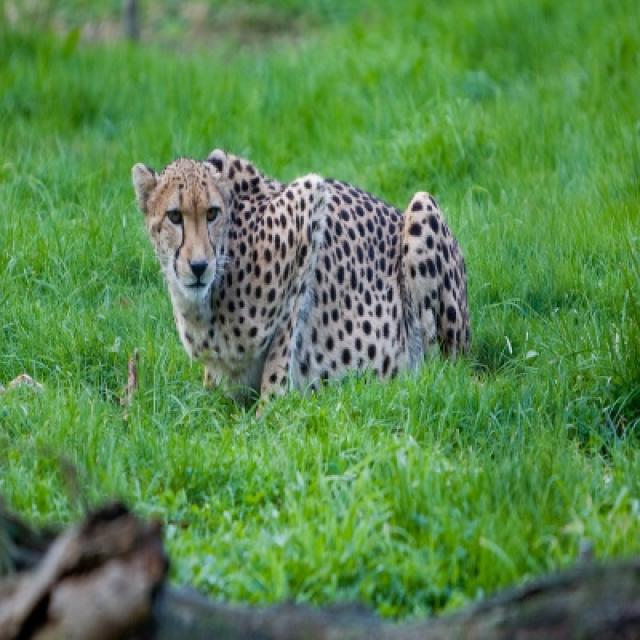Cheetah: (128, 148, 470, 411)
